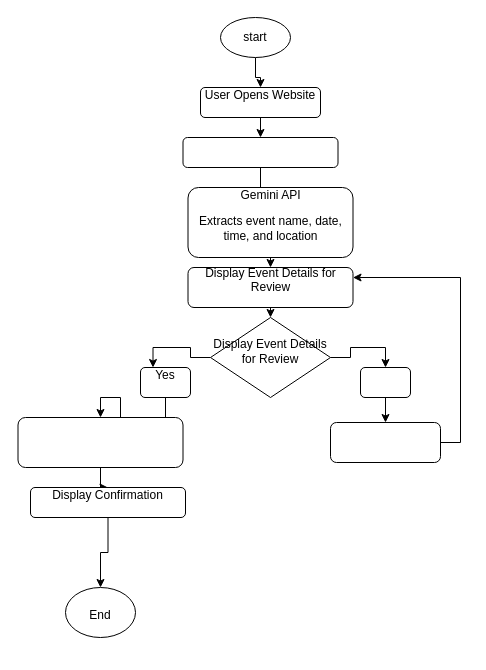
The diagram is 486 pixels wide and 670 high, and some of its shapes have lost their labels. Here are the shapes that lost their labels. From the top down, the centre of each, then its label:
the point at 260,152: User Uploads Flyer Image
the point at 385,382: no
the point at 100,442: Google Calendar API Creates event
the point at 385,442: Edit Event Details
